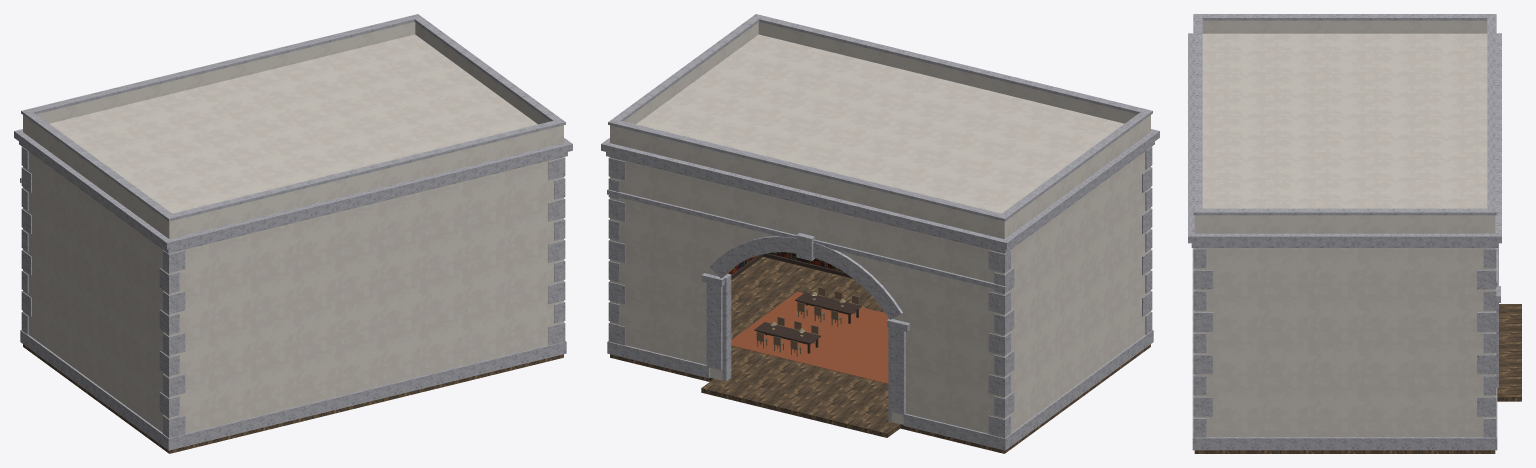
Rendered from hall_library.glb.
3 renders of one model, left to right at view 1: azimuth 30°, elevation 25°; view 2: azimuth 150°, elevation 25°; view 3: azimuth 270°, elevation 25°, orthographic. The views are drawn at different scales.
Visible parts, largest first — view 1: Shell, Trim, Floor; view 2: Shell, Trim, Floor, Furniture, Bookcases; view 3: Shell, Trim, Floor.
Boxes of the visible parts, x1,y1,x2,y2 form: Shell: (23, 22, 563, 433); Trim: (14, 14, 572, 450); Floor: (23, 344, 563, 453); Shell: (610, 22, 1150, 433); Trim: (601, 14, 1159, 450); Floor: (610, 257, 1150, 453); Furniture: (731, 287, 888, 383); Bookcases: (728, 252, 852, 279); Shell: (1194, 20, 1495, 437); Trim: (1188, 14, 1501, 450); Floor: (1194, 304, 1521, 453).
Size of the model in its own units: 28.8 by 15.98 by 20.
9 materials, 8 textured.
